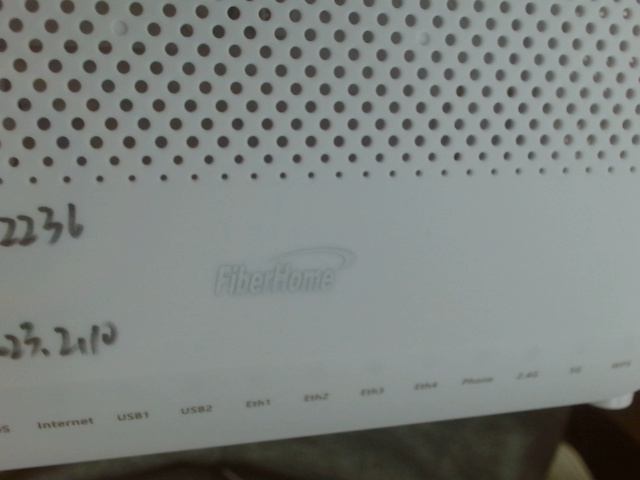AI_FiberHome: (200, 239, 358, 300)
